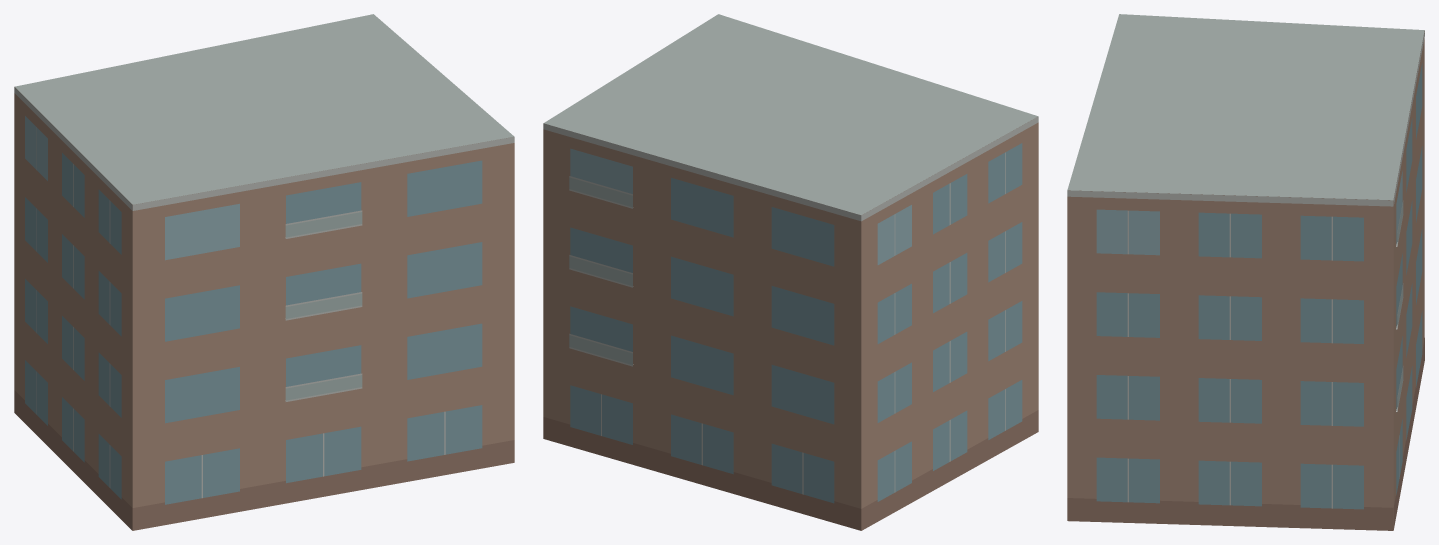
The model's file is survey-upis-32826071.glb.
3 views of the same model, side by side, from view 1: azimuth 30°, elevation 25°; view 2: azimuth 150°, elevation 25°; view 3: azimuth 270°, elevation 25° (orthographic). The views are drawn at different scales.
Visible parts, largest first — view 1: survey-upis-32826071.tmp; view 2: survey-upis-32826071.tmp; view 3: survey-upis-32826071.tmp.
Boxes of the visible parts, x1,y1,x2,y2 form: survey-upis-32826071.tmp: (14, 14, 514, 530); survey-upis-32826071.tmp: (543, 14, 1038, 530); survey-upis-32826071.tmp: (1067, 14, 1424, 530).
Bounding box in the file's own units: 15.35 × 12.7 × 12.45.
